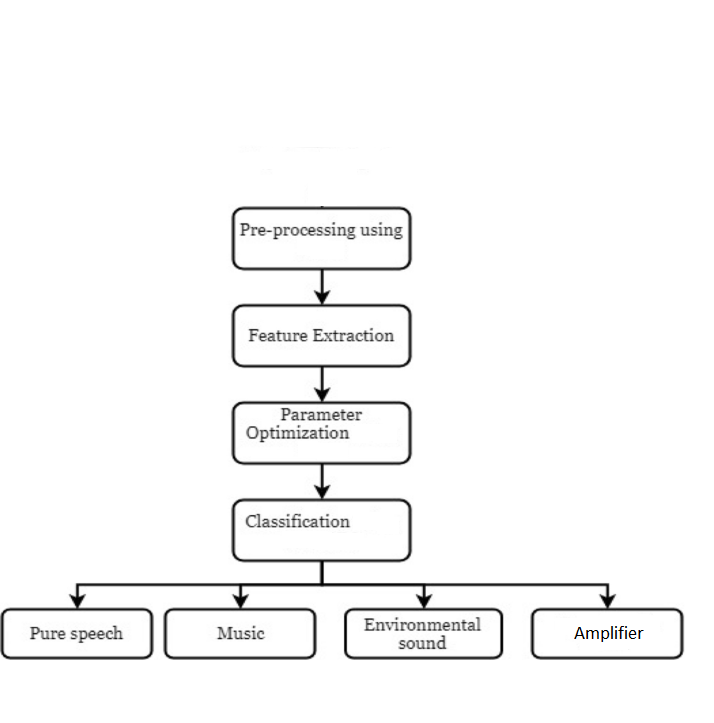arrow: (316, 556, 434, 609), (423, 581, 616, 612), (67, 579, 236, 612), (232, 557, 328, 609), (310, 266, 332, 305), (312, 364, 334, 402), (311, 464, 332, 499)
process: (227, 398, 417, 471), (228, 202, 415, 274), (229, 300, 415, 371), (229, 495, 415, 564), (340, 605, 505, 663), (528, 605, 688, 663), (2, 605, 158, 662), (162, 606, 318, 662)
text: (361, 613, 484, 652), (244, 406, 365, 444), (236, 220, 404, 241), (247, 324, 395, 344), (24, 623, 128, 645), (244, 510, 352, 531), (570, 623, 645, 643), (214, 623, 267, 642)
